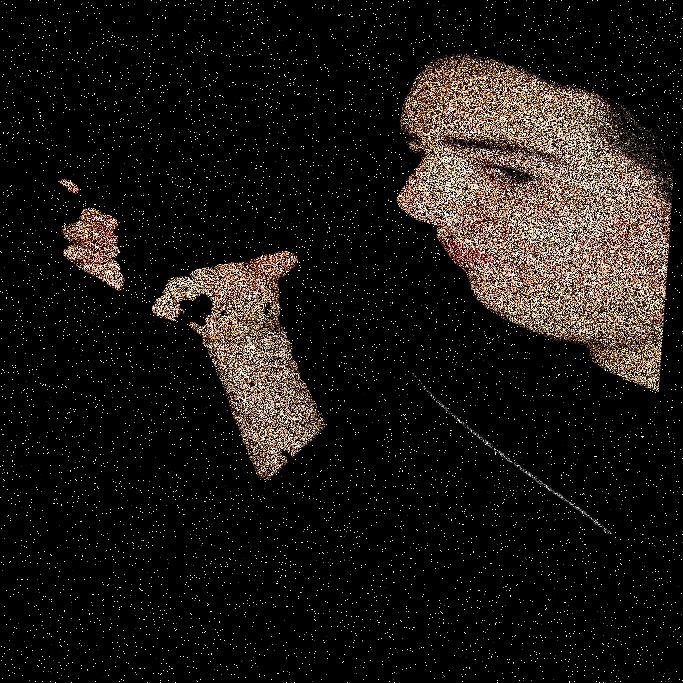Pessoa: (400, 0, 682, 682)
